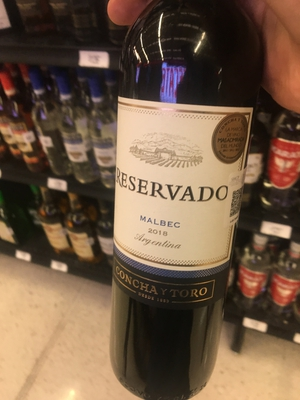reservado malbec: (107, 5, 256, 392)
